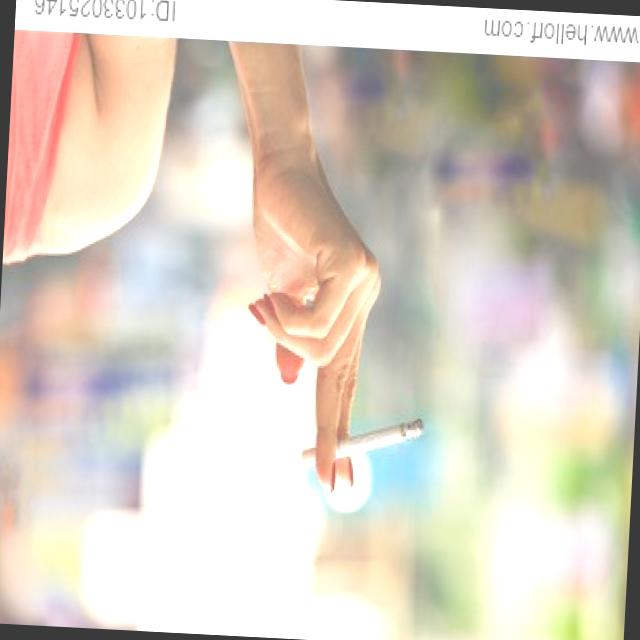cigarette: (336, 416, 426, 465)
